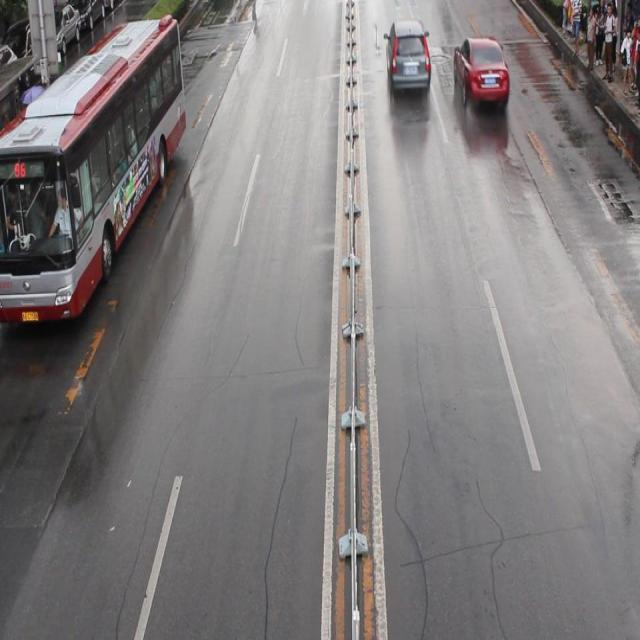car: (452, 36, 508, 104), (384, 23, 430, 92)
van: (1, 17, 186, 321)
